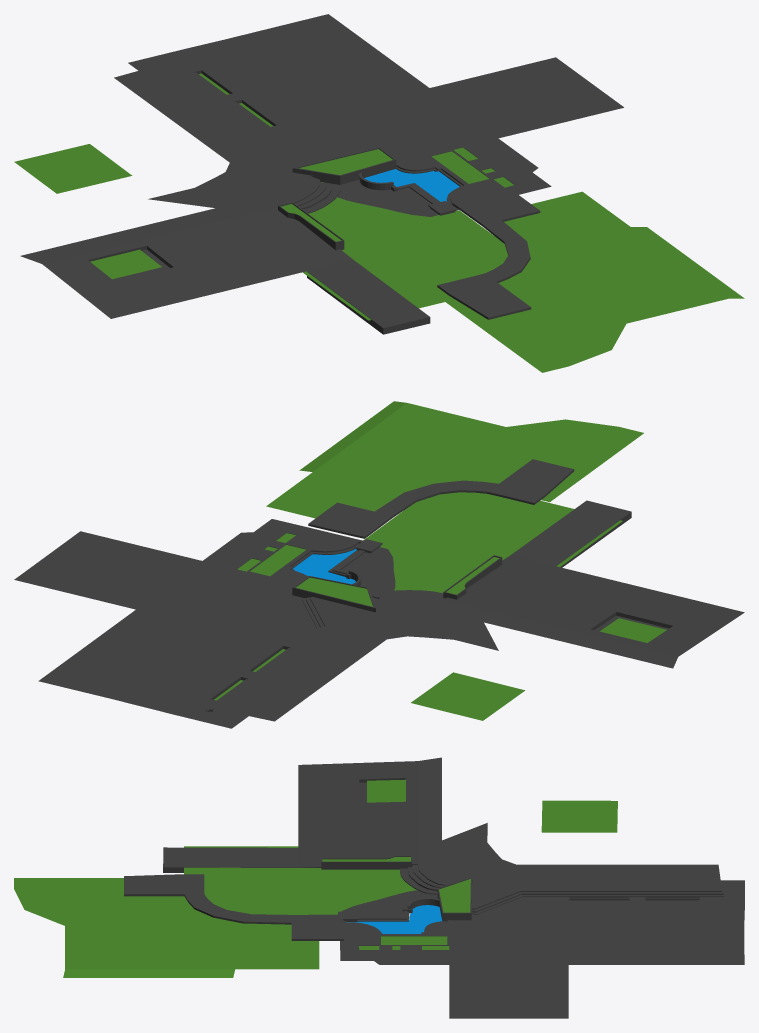
Rendered from ground 1.fbx.
3 renders of one model, top to bottom at view 1: azimuth 30°, elevation 25°; view 2: azimuth 150°, elevation 25°; view 3: azimuth 270°, elevation 25°, orthographic. The views are drawn at different scales.
Visible parts, largest first — view 1: polySurface10; view 2: polySurface10; view 3: polySurface10.
Part boxes in pixels (x1,y1,x2,y2): polySurface10: [14, 14, 744, 372]; polySurface10: [14, 401, 744, 728]; polySurface10: [14, 757, 744, 1018].
Bounding box in the file's own units: 14091 × 362 × 16864.
